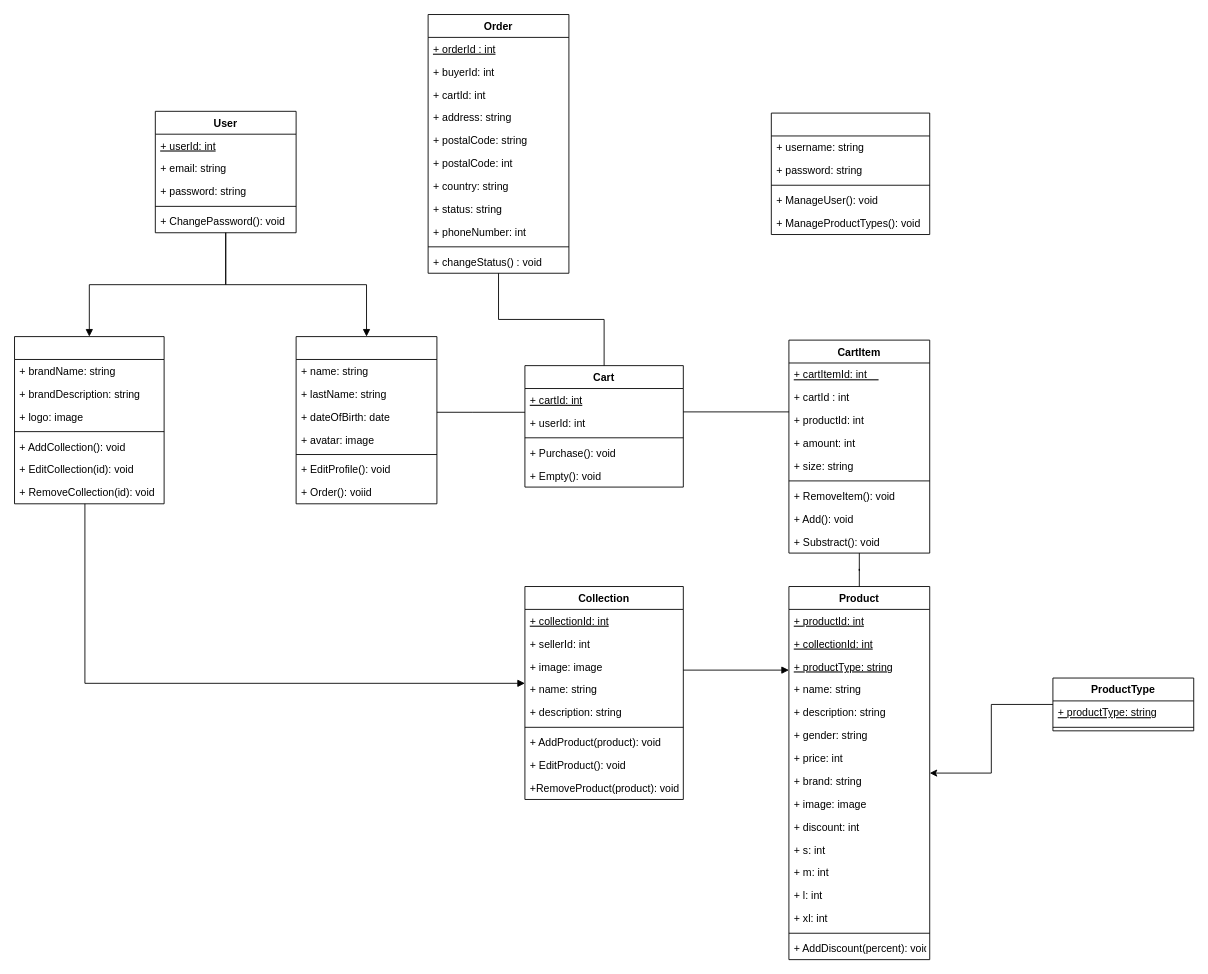
This 1208x974 diagram has some shape labels left out. The shapes that lost their labels are listed below. From the top down, each one's box as (x1, y1, x2, y2) in pixels, then its label:
(770, 112, 930, 235): Admin
(14, 336, 164, 504): Seller
(295, 336, 437, 504): Buyer
